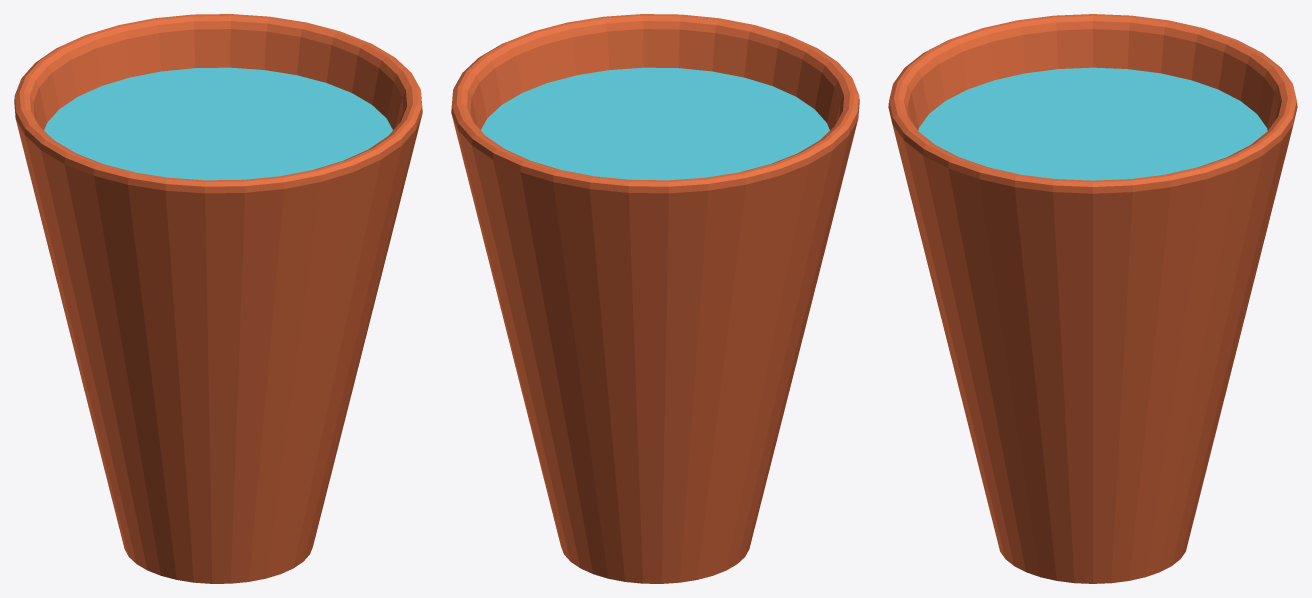
The model's file is Vaso.fbx.
3 views of the same model, side by side, from view 1: azimuth 30°, elevation 25°; view 2: azimuth 150°, elevation 25°; view 3: azimuth 270°, elevation 25° (orthographic).
Visible parts, largest first — view 1: Vaso_de_Agua; view 2: Vaso_de_Agua; view 3: Vaso_de_Agua.
Part boxes in pixels (left/top/right/bottom): Vaso_de_Agua: left=14, top=14, right=422, bottom=583; Vaso_de_Agua: left=451, top=14, right=859, bottom=583; Vaso_de_Agua: left=888, top=14, right=1297, bottom=583.
Bounding box in the file's own units: 13931 × 16746 × 13931.
